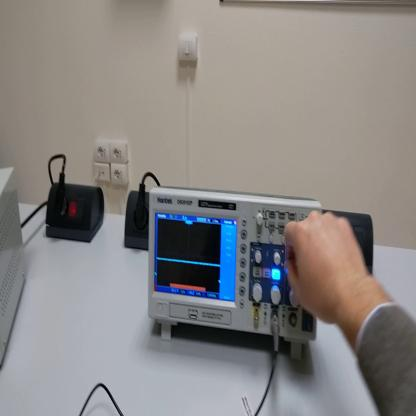hand: (284, 208, 369, 330)
oscilloscope: (150, 188, 324, 364)
power supply: (2, 170, 28, 375)
socket: (47, 185, 106, 243), (124, 188, 149, 250)
